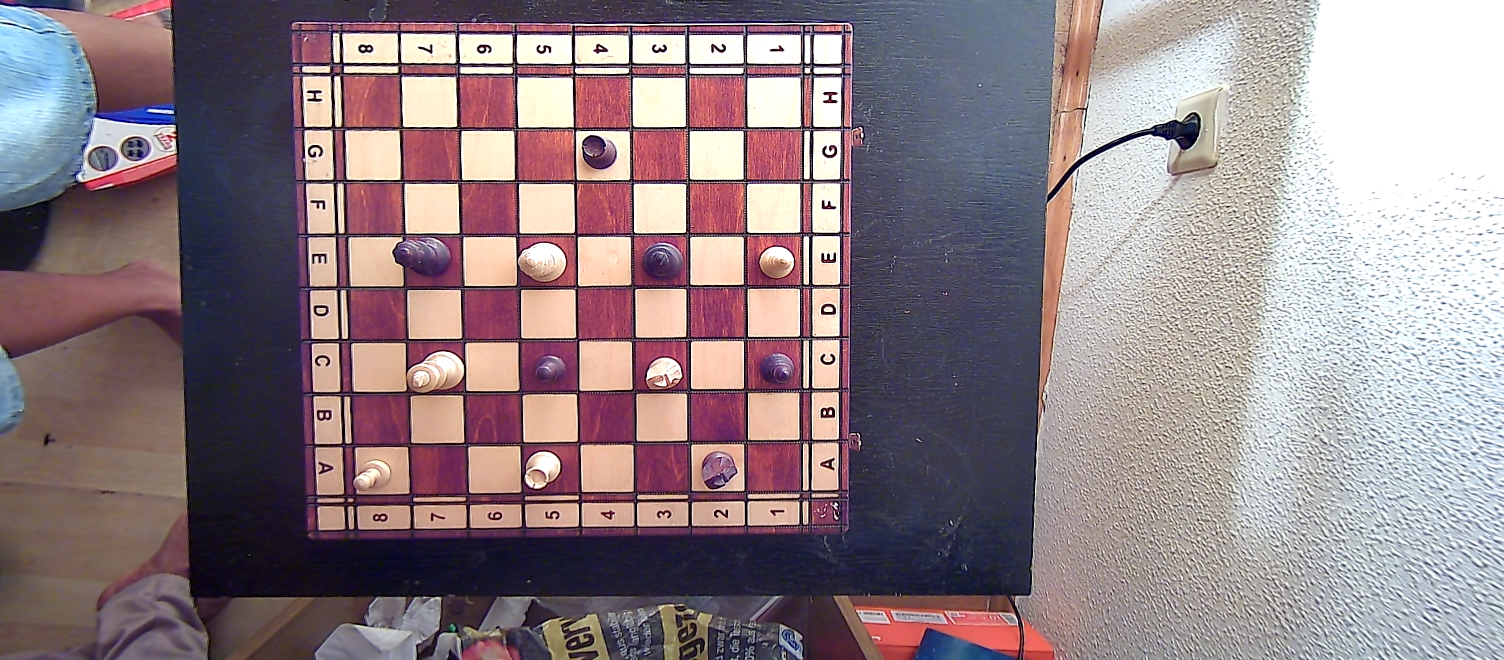black-bishop: (761, 349, 800, 391)
black-king: (639, 242, 684, 283)
black-knight: (697, 447, 739, 491)
black-pawn: (530, 351, 566, 384)
black-queen: (389, 235, 455, 280)
black-rook: (579, 131, 622, 173)
white-bishop: (756, 242, 797, 284)
white-king: (403, 351, 466, 395)
white-knight: (642, 352, 684, 392)
white-pawn: (350, 458, 393, 495)
white-queen: (516, 239, 570, 283)
white-rook: (522, 450, 563, 491)
